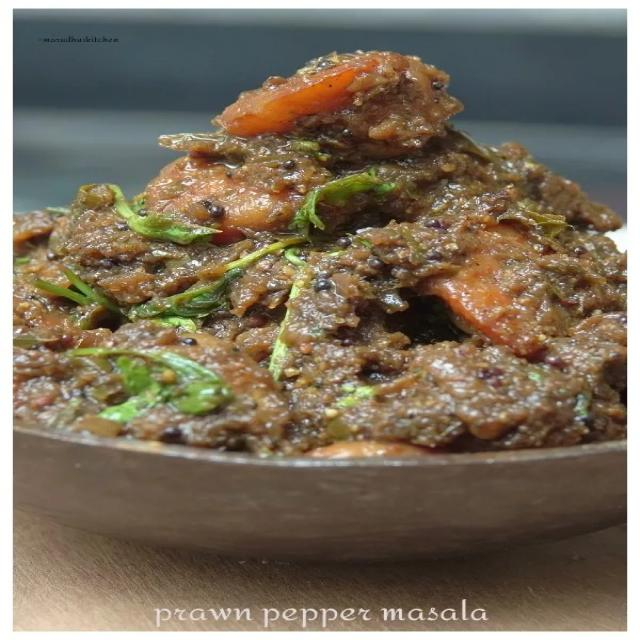prawn thokku: (0, 35, 627, 512)
